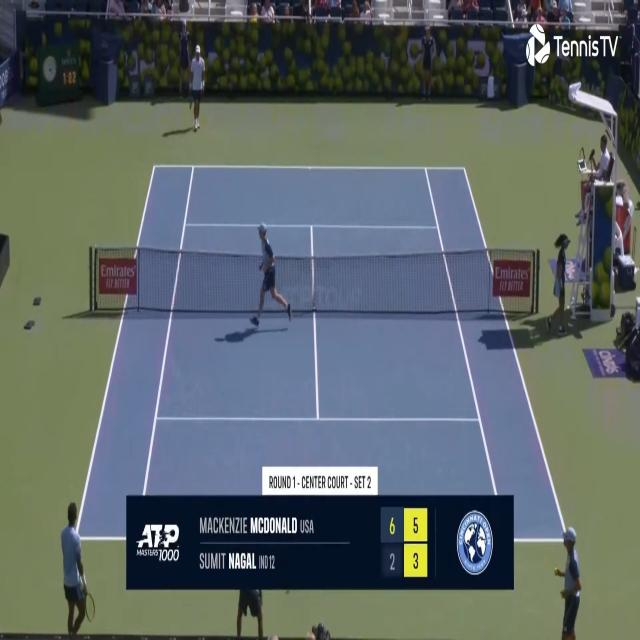tennis-player: (59, 498, 95, 636), (187, 42, 206, 133)
